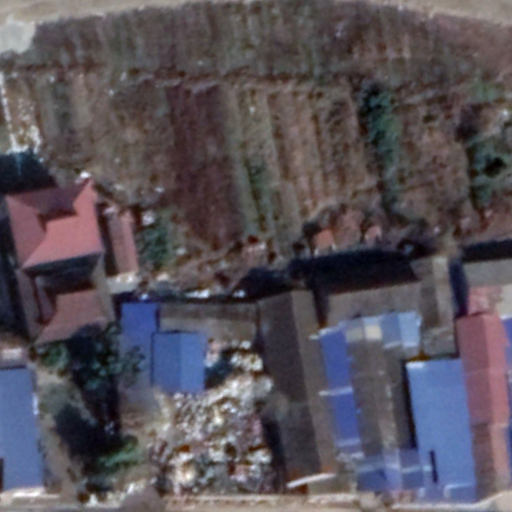msw: (154, 356, 280, 491)
